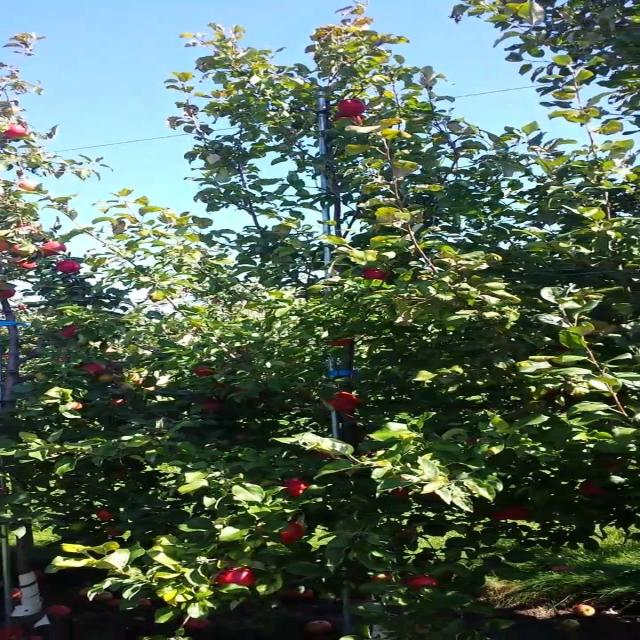apple: (326, 392, 363, 413), (220, 568, 258, 588), (404, 576, 441, 591), (284, 480, 313, 499), (582, 480, 612, 497), (284, 524, 306, 546), (340, 100, 370, 115), (504, 508, 533, 521), (56, 260, 82, 274), (6, 124, 28, 140), (42, 244, 69, 256), (362, 268, 389, 280), (312, 452, 338, 462), (84, 364, 107, 375), (20, 224, 43, 235), (13, 244, 34, 256), (333, 116, 364, 124), (63, 324, 80, 338), (390, 488, 411, 499), (326, 340, 354, 348), (205, 400, 222, 412), (20, 180, 36, 192), (340, 116, 364, 124), (369, 576, 391, 584), (234, 432, 249, 443), (99, 376, 119, 384), (20, 260, 37, 269), (106, 528, 123, 537), (348, 116, 364, 125), (198, 368, 215, 376), (492, 512, 507, 521), (99, 512, 114, 520), (70, 404, 85, 412), (113, 472, 128, 480), (6, 288, 16, 299), (113, 400, 128, 407), (13, 260, 23, 266), (134, 380, 142, 386)
